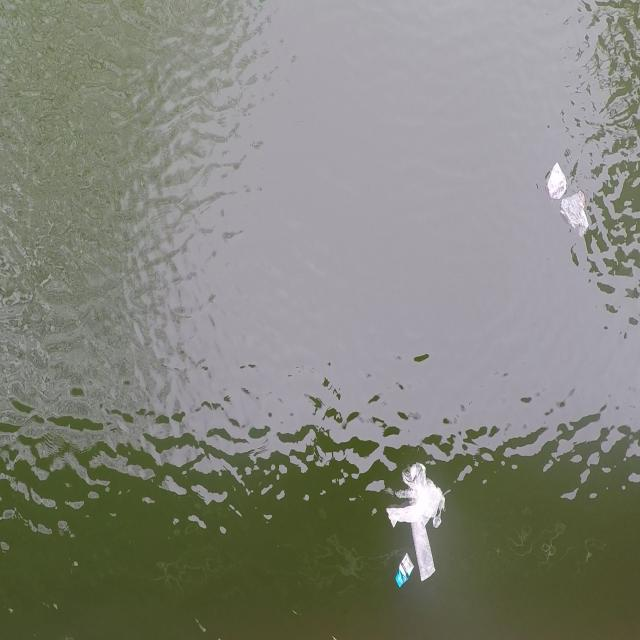Sac plastique: (380, 451, 451, 594), (558, 193, 593, 243), (544, 156, 569, 203)
